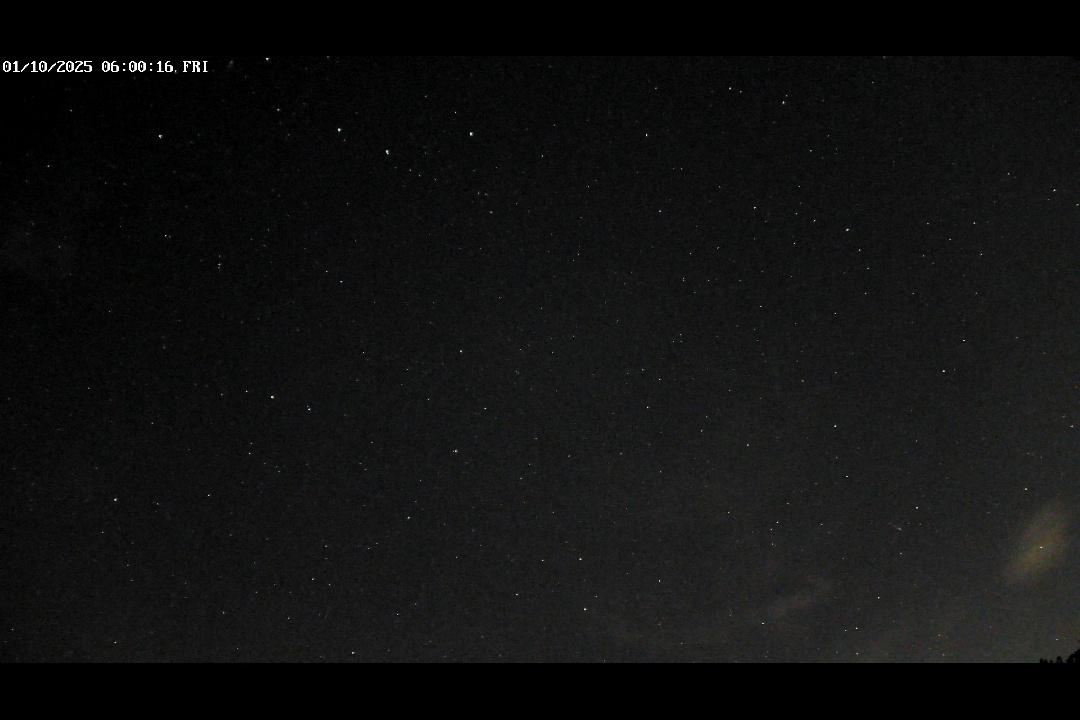Plane: (878, 516, 913, 538)
